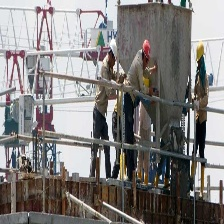helmet: (195, 39, 206, 70), (142, 39, 150, 68), (110, 36, 117, 64)
no-vest: (126, 50, 143, 113), (94, 61, 110, 117), (195, 72, 205, 139)
person: (90, 33, 119, 181), (123, 40, 150, 182), (194, 45, 206, 201)
